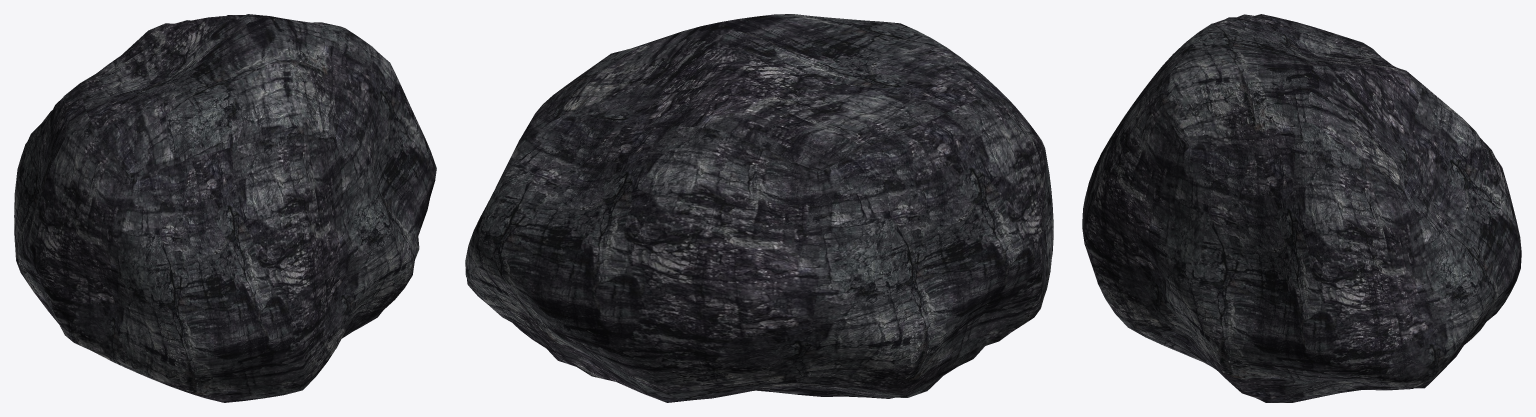
Rendered from EP_Rock_001.fbx.
3 views of the same model, side by side, from view 1: azimuth 30°, elevation 25°; view 2: azimuth 150°, elevation 25°; view 3: azimuth 270°, elevation 25° (orthographic). The views are drawn at different scales.
Visible parts, largest first — view 1: Cube; view 2: Cube; view 3: Cube.
Part boxes in pixels (bbox=[...]): Cube: bbox=[14, 14, 436, 402]; Cube: bbox=[465, 14, 1053, 402]; Cube: bbox=[1082, 14, 1521, 402].
Bounding box in the file's own units: 377 × 269 × 339.
1 material, 1 textured.
